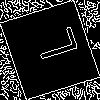L: (25, 24, 79, 66)
